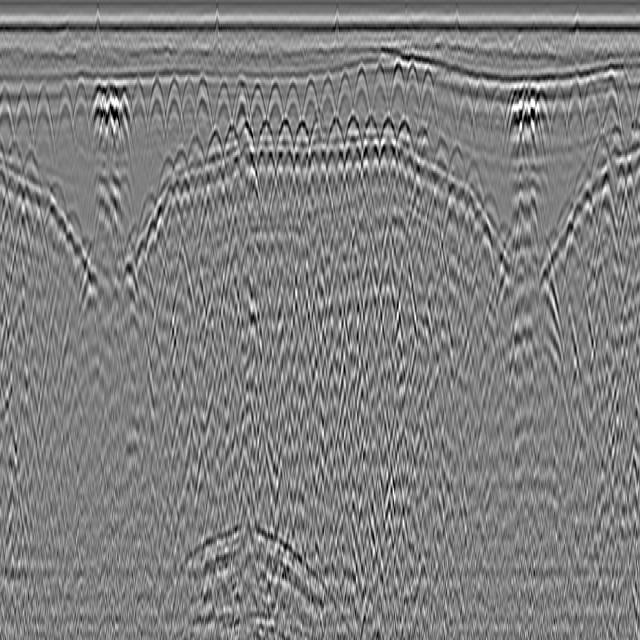hyperbola: (484, 81, 509, 158), (32, 81, 54, 163), (144, 68, 166, 150), (54, 71, 74, 161), (14, 71, 33, 163), (417, 55, 437, 135), (160, 71, 182, 143), (126, 81, 148, 148), (72, 80, 90, 160), (458, 71, 476, 151), (350, 55, 371, 122), (470, 81, 491, 148), (332, 61, 352, 128), (549, 68, 567, 140), (264, 74, 284, 138), (192, 71, 212, 133), (602, 68, 620, 135), (1, 68, 16, 148), (315, 68, 337, 122), (178, 74, 197, 135), (372, 55, 389, 122), (568, 74, 584, 143), (210, 78, 232, 128), (585, 74, 602, 138), (119, 90, 136, 151), (389, 52, 404, 117), (301, 80, 319, 132), (230, 71, 249, 120), (284, 81, 303, 130), (250, 81, 267, 135), (406, 55, 419, 122)
